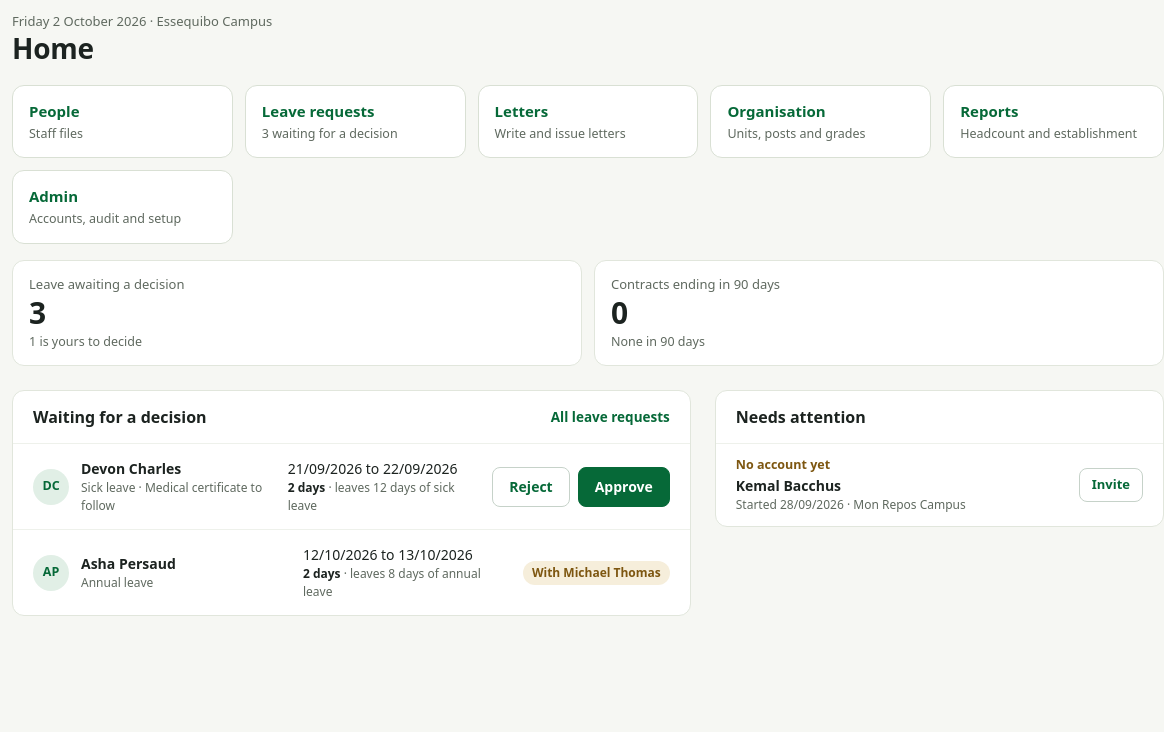
Scenario: Home for Human Resources › counts one campus when the switch is set, and says when an invitation fails
The width and height of the screenshot is (1164, 732).
Check: the text "Friday 2 October 2026 · Essequibo Campus" is shown, box [12,12,272,32]
Click the button with aria-label "Invite: Kemal Bacchus" at x=1111, y=485, box [1079,468,1143,502]
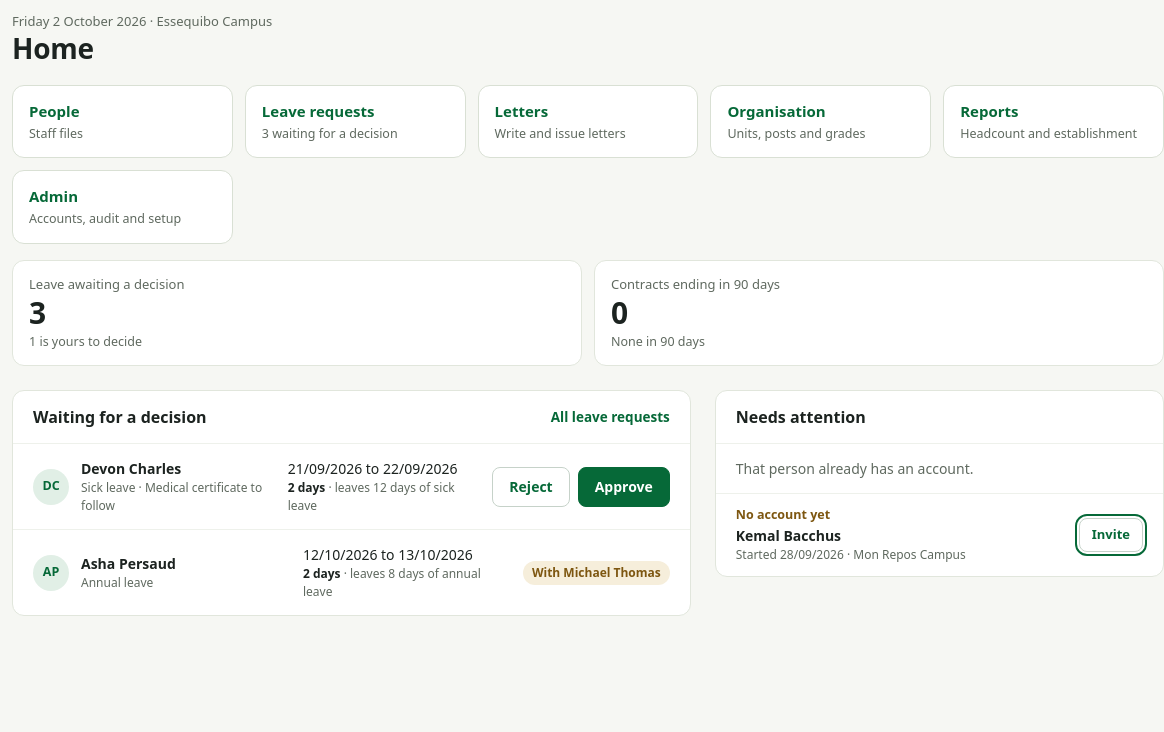
Check: the message reads "That person already has an account.", box [736,459,974,478]
